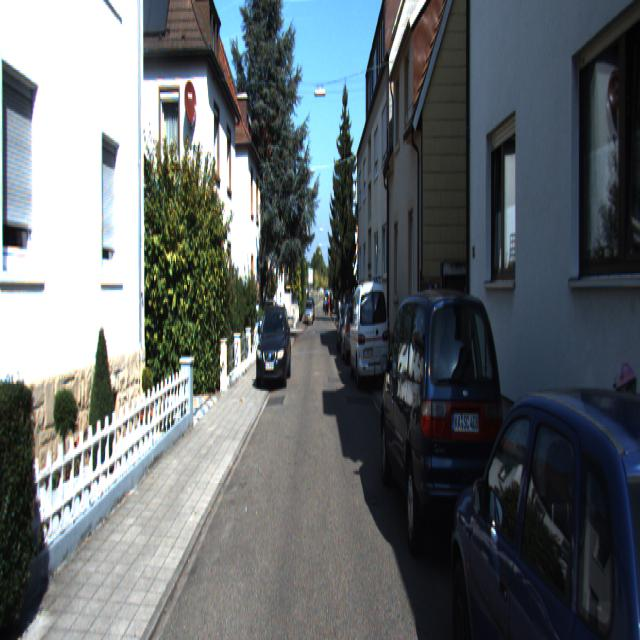Car: (445, 360, 640, 638), (379, 281, 509, 586), (348, 272, 388, 388), (256, 299, 289, 389), (340, 300, 365, 369)
